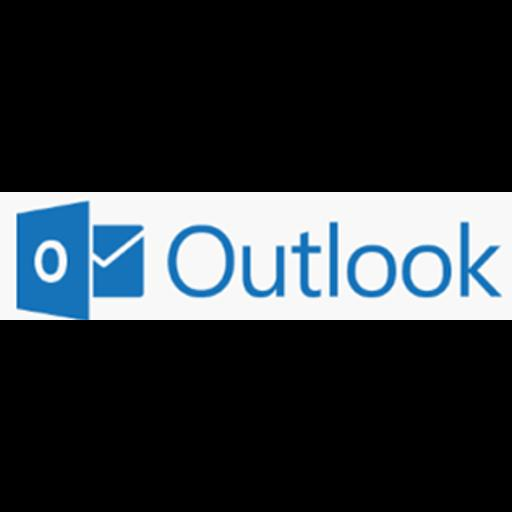Outlook: (0, 192, 512, 320)
